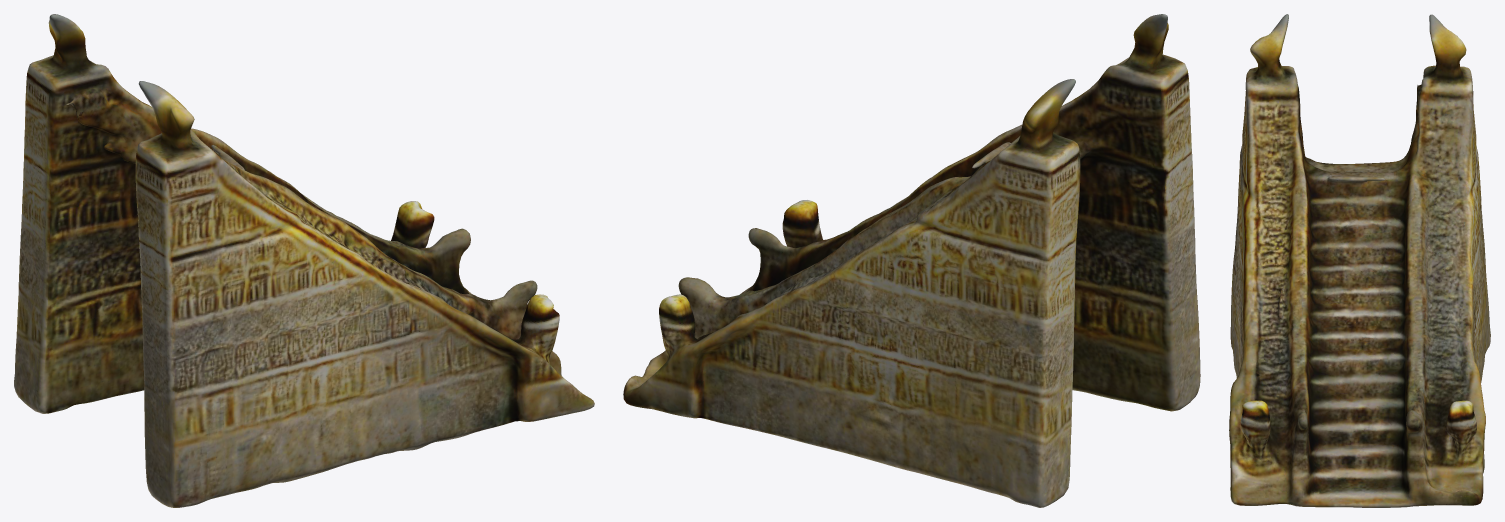
Rendered from e610a7c82401_An_egyptian_temple_.fbx.
3 views of the same model, side by side, from view 1: azimuth 30°, elevation 25°; view 2: azimuth 150°, elevation 25°; view 3: azimuth 270°, elevation 25° (orthographic). The views are drawn at different scales.
Visible parts, largest first — view 1: high_poly; view 2: high_poly; view 3: high_poly.
Boxes of the visible parts, box(x1,y1,x2,y2) form: high_poly: box(14, 14, 594, 507); high_poly: box(623, 14, 1200, 507); high_poly: box(1229, 14, 1490, 507).
Size of the model in its own units: 100 by 92.24 by 65.43.
